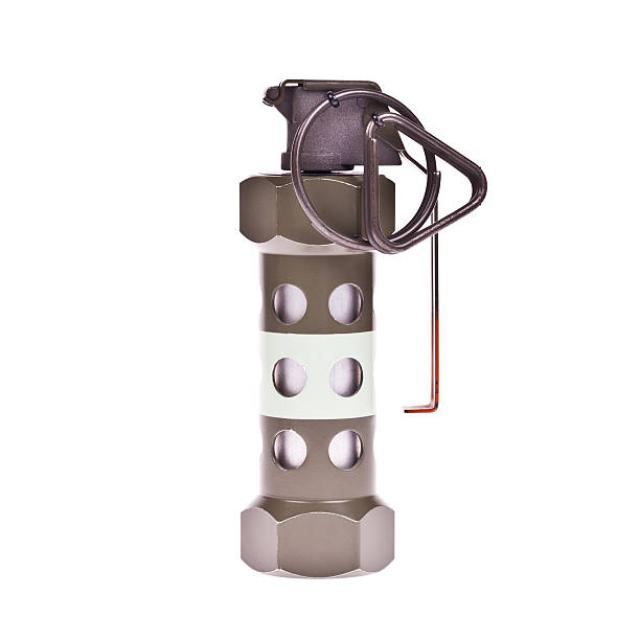grenade: (224, 64, 495, 585)
